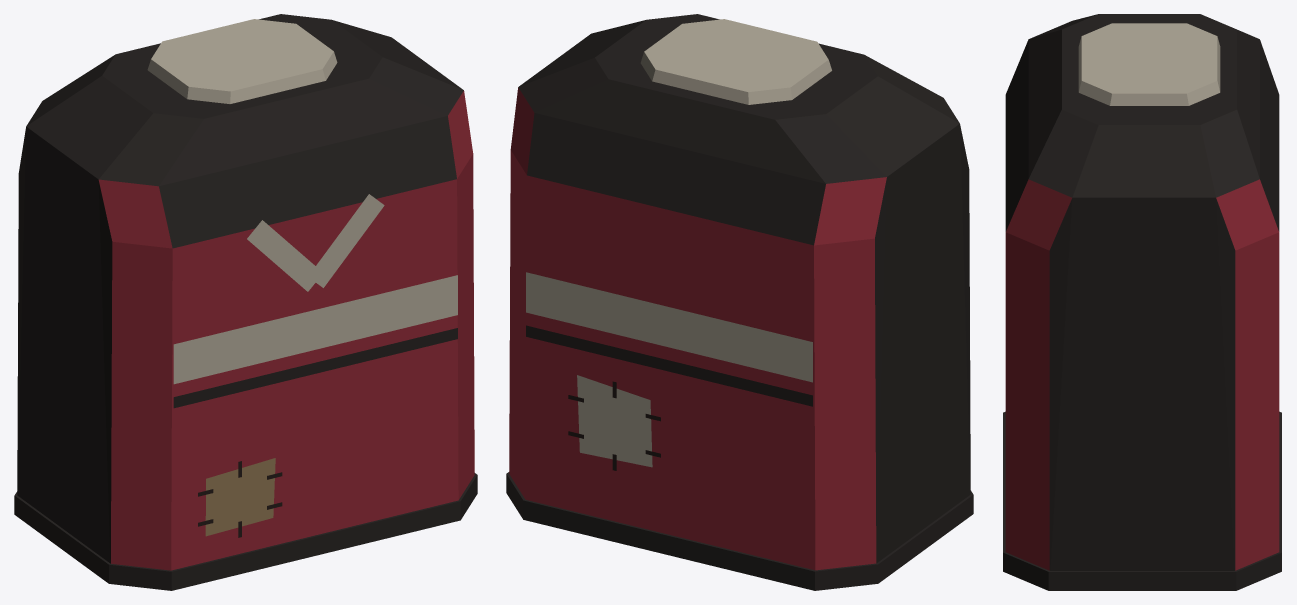
File: tl_wear_jersey_v01.glb
3 renders of one model, left to right at view 1: azimuth 30°, elevation 25°; view 2: azimuth 150°, elevation 25°; view 3: azimuth 270°, elevation 25°, orthographic.
Visible parts, largest first — view 1: fit_spine; view 2: fit_spine; view 3: fit_spine.
Boxes of the visible parts, x1=… form: fit_spine: x1=14, y1=14, x2=477, y2=590; fit_spine: x1=506, y1=14, x2=973, y2=590; fit_spine: x1=1003, y1=14, x2=1281, y2=590.
Size of the model in its own units: 0.482 by 0.5641 by 0.32.
